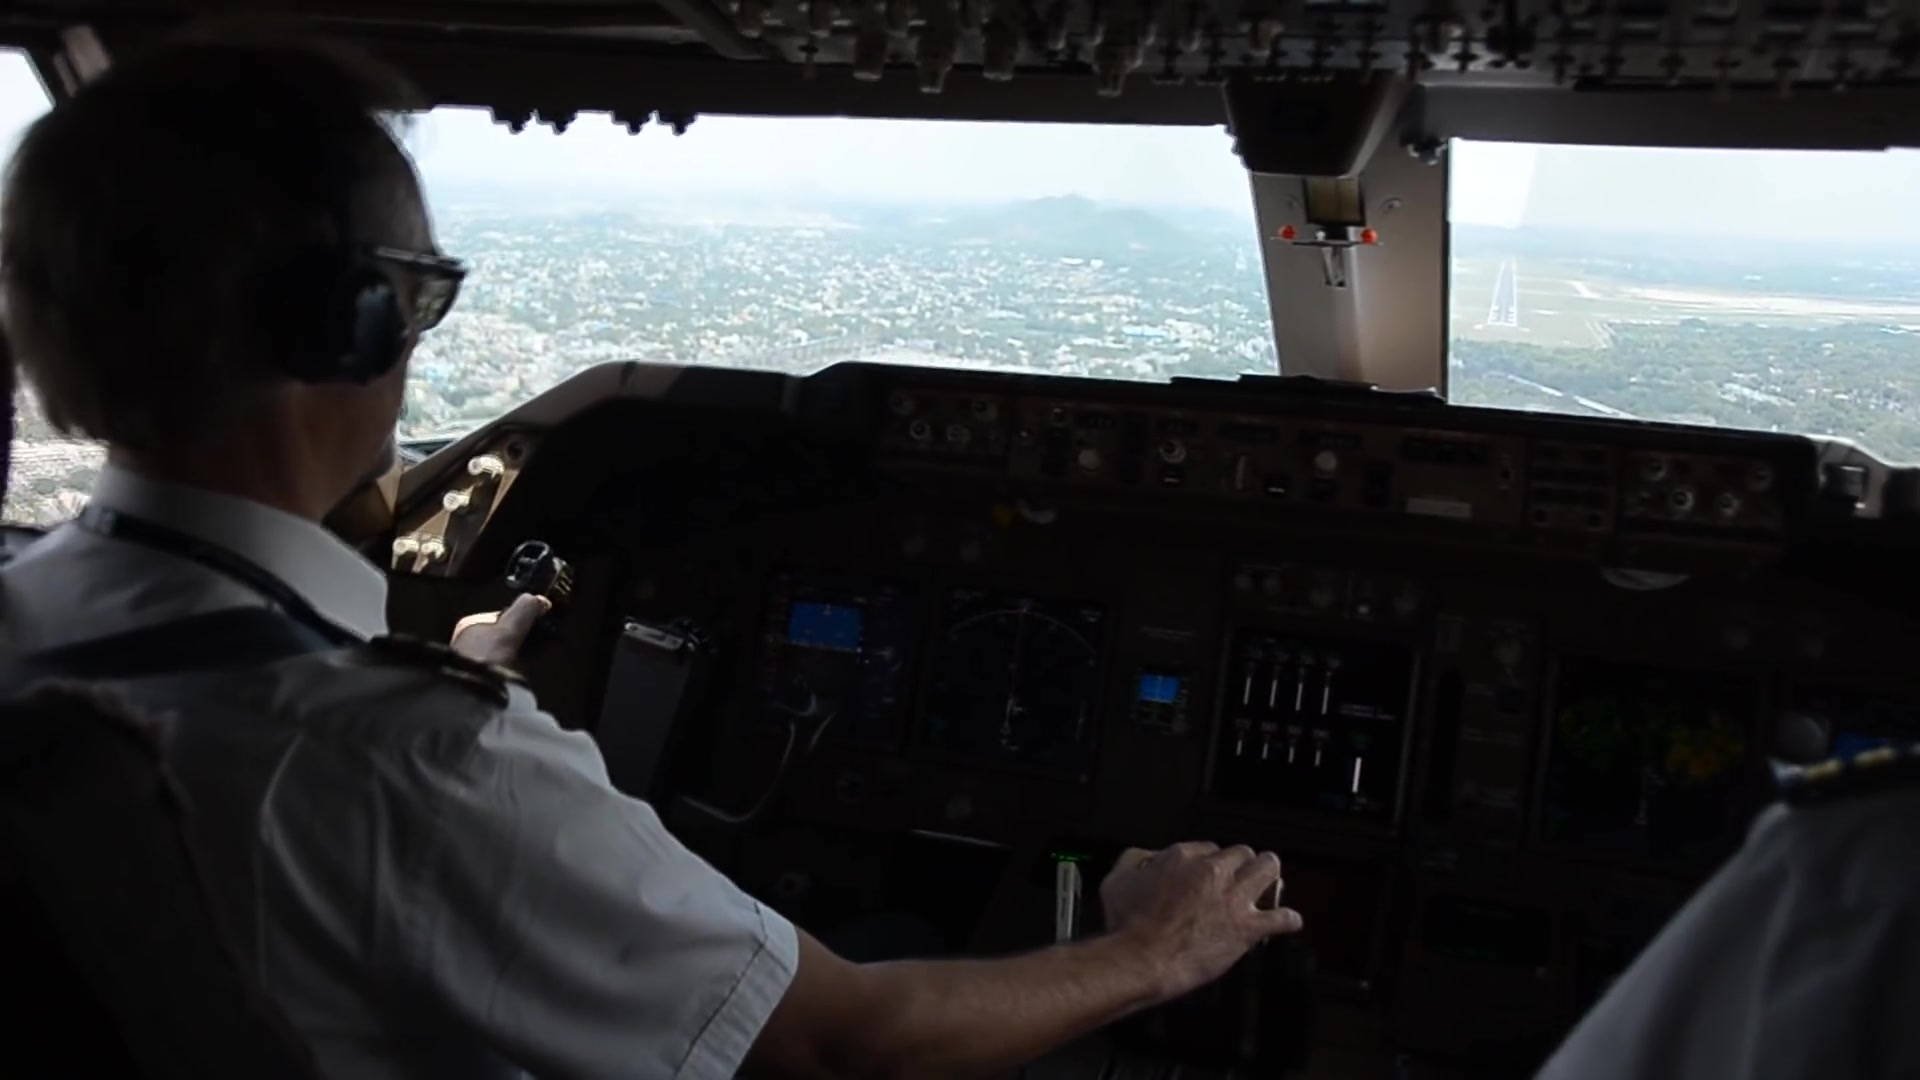runway: (1484, 255, 1518, 326)
